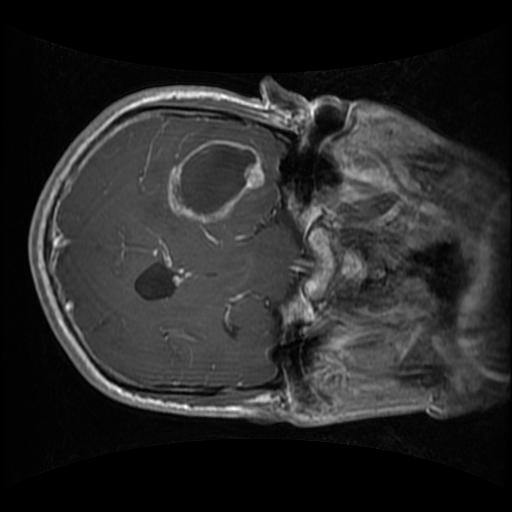glioma: (166, 139, 265, 224)
